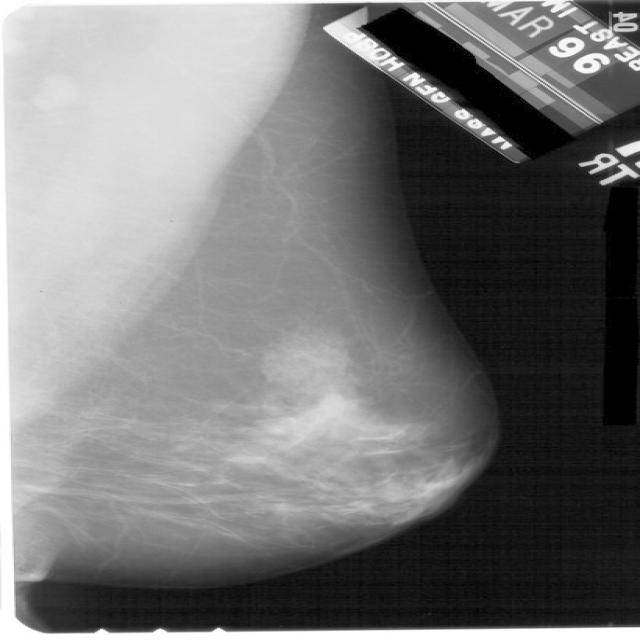tumour: (309, 392, 358, 422)
